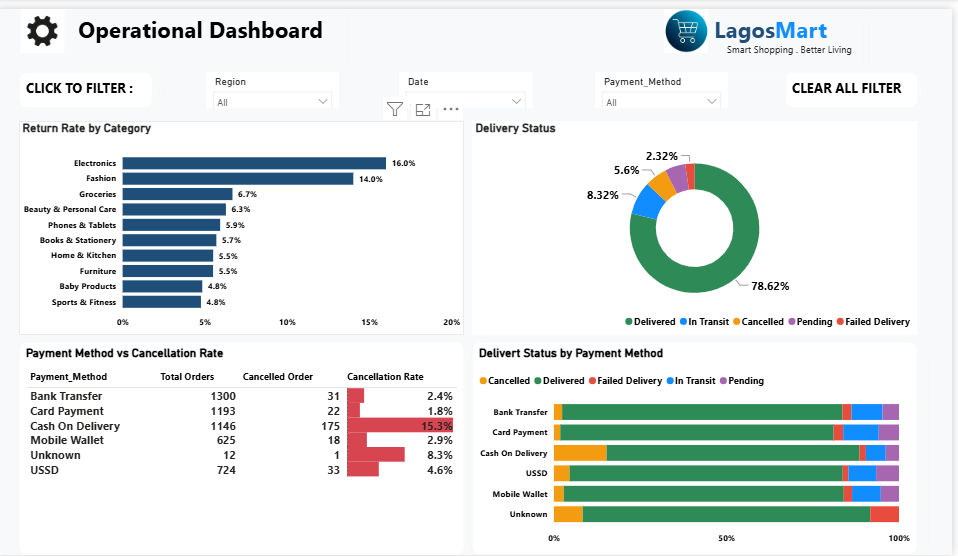

The dashboard page shown, as its layout file describes it:
{"tool":"powerbi","page":{"name":"Operational Dashboard","canvas":[1366,780],"ordinal":4},"visuals":[{"type":"image","box":[33,0,67,63],"z":0},{"type":"textbox","box":[111.5,0,375.7,78.5],"z":1000},{"type":"image","box":[952.4,0,67,63.3],"z":2000},{"type":"textbox","box":[1019.9,0,212,80],"z":3000},{"type":"textbox","box":[1126.6,89.6,190,51.4],"z":4000},{"type":"textbox","box":[32.3,89.6,190.9,51.4],"z":5000},{"type":"slicer","fields":{"Values":["Cleaned_LagosMart_Data.Region"]},"box":[299.6,89.6,190,52],"z":6000},{"type":"slicer","fields":{"Values":["Cleaned_LagosMart_Data.Date"]},"box":[575.8,89.6,190.9,51.4],"z":7000},{"type":"slicer","fields":{"Values":["Cleaned_LagosMart_Data.Payment_Method"]},"box":[856.3,89.6,190,52],"z":8000},{"type":"clusteredBarChart","title":"Return Rate by Category","fields":{"Category":["Cleaned_LagosMart_Data.Product_Category"],"Y":["Cleaned_LagosMart_Data.Return Rate"]},"box":[32.3,160.1,636,305],"z":9000},{"type":"tableEx","title":"Payment Method vs Cancellation Rate","fields":{"Values":["Cleaned_LagosMart_Data.Payment_Method","Cleaned_LagosMart_Data.Total Orders","Cleaned_LagosMart_Data.Cancelled Order","Cleaned_LagosMart_Data.Cancellation Rate"]},"box":[32.3,475.9,636,305],"z":10000},{"type":"donutChart","title":"Delivery Status","fields":{"Category":["Cleaned_LagosMart_Data.Delivery_Status"],"Y":["Cleaned_LagosMart_Data.Total Orders"]},"box":[680.1,160.1,636,305.5],"z":11000},{"type":"hundredPercentStackedBarChart","title":"Delivery Status by Payment Method","fields":{"Category":["Cleaned_LagosMart_Data.Payment_Method"],"Series":["Cleaned_LagosMart_Data.Delivery_Status"],"Y":["Cleaned_LagosMart_Data.Total Orders"]},"box":[680.1,475.9,636,304],"z":12000}]}

Visuals, with their boxes in screenshot pixels (x1, y1, x2, y2), scaled from the page's 1366x780 canvas onto the 958x556 screenshot:
image: select_region(23, 0, 70, 45)
textbox: select_region(78, 0, 342, 56)
image: select_region(668, 0, 715, 45)
textbox: select_region(715, 0, 864, 57)
textbox: select_region(790, 64, 923, 101)
textbox: select_region(23, 64, 157, 101)
slicer - Cleaned_LagosMart_Data.Region: select_region(210, 64, 343, 101)
slicer - Cleaned_LagosMart_Data.Date: select_region(404, 64, 538, 101)
slicer - Cleaned_LagosMart_Data.Payment_Method: select_region(601, 64, 734, 101)
"Return Rate by Category" clusteredBarChart: select_region(23, 114, 469, 332)
"Payment Method vs Cancellation Rate" tableEx: select_region(23, 339, 469, 555)
"Delivery Status" donutChart: select_region(477, 114, 923, 332)
"Delivery Status by Payment Method" hundredPercentStackedBarChart: select_region(477, 339, 923, 555)
